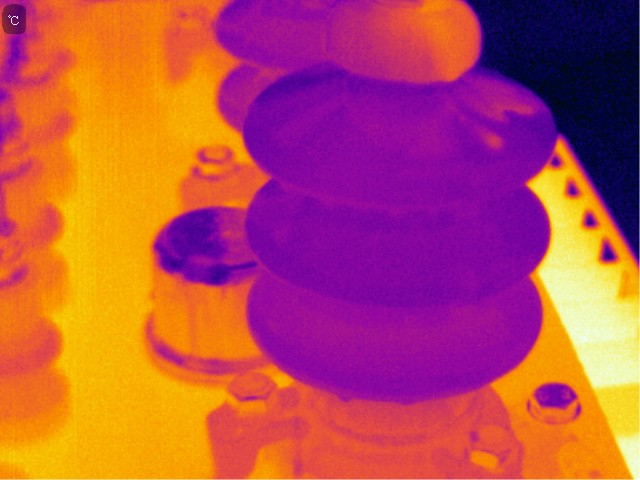Oil: (325, 3, 480, 83), (449, 83, 540, 157)
